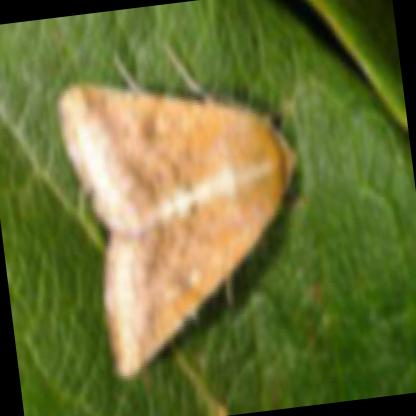helicoverpa: (61, 83, 294, 380)
